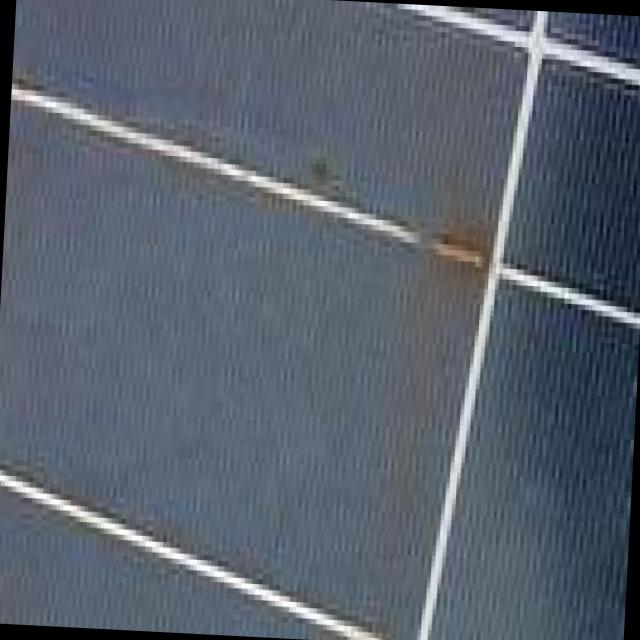faulty: (405, 204, 508, 319), (291, 150, 352, 232)
